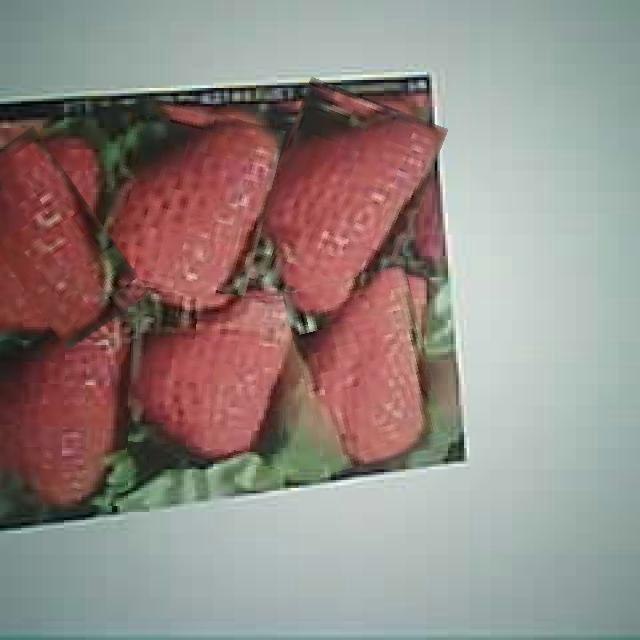strawberry: (252, 86, 432, 316), (99, 101, 275, 319), (292, 270, 438, 468), (130, 290, 291, 464), (0, 131, 126, 346), (0, 313, 131, 506)
